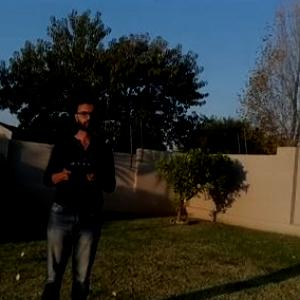follow: (31, 90, 122, 299)
